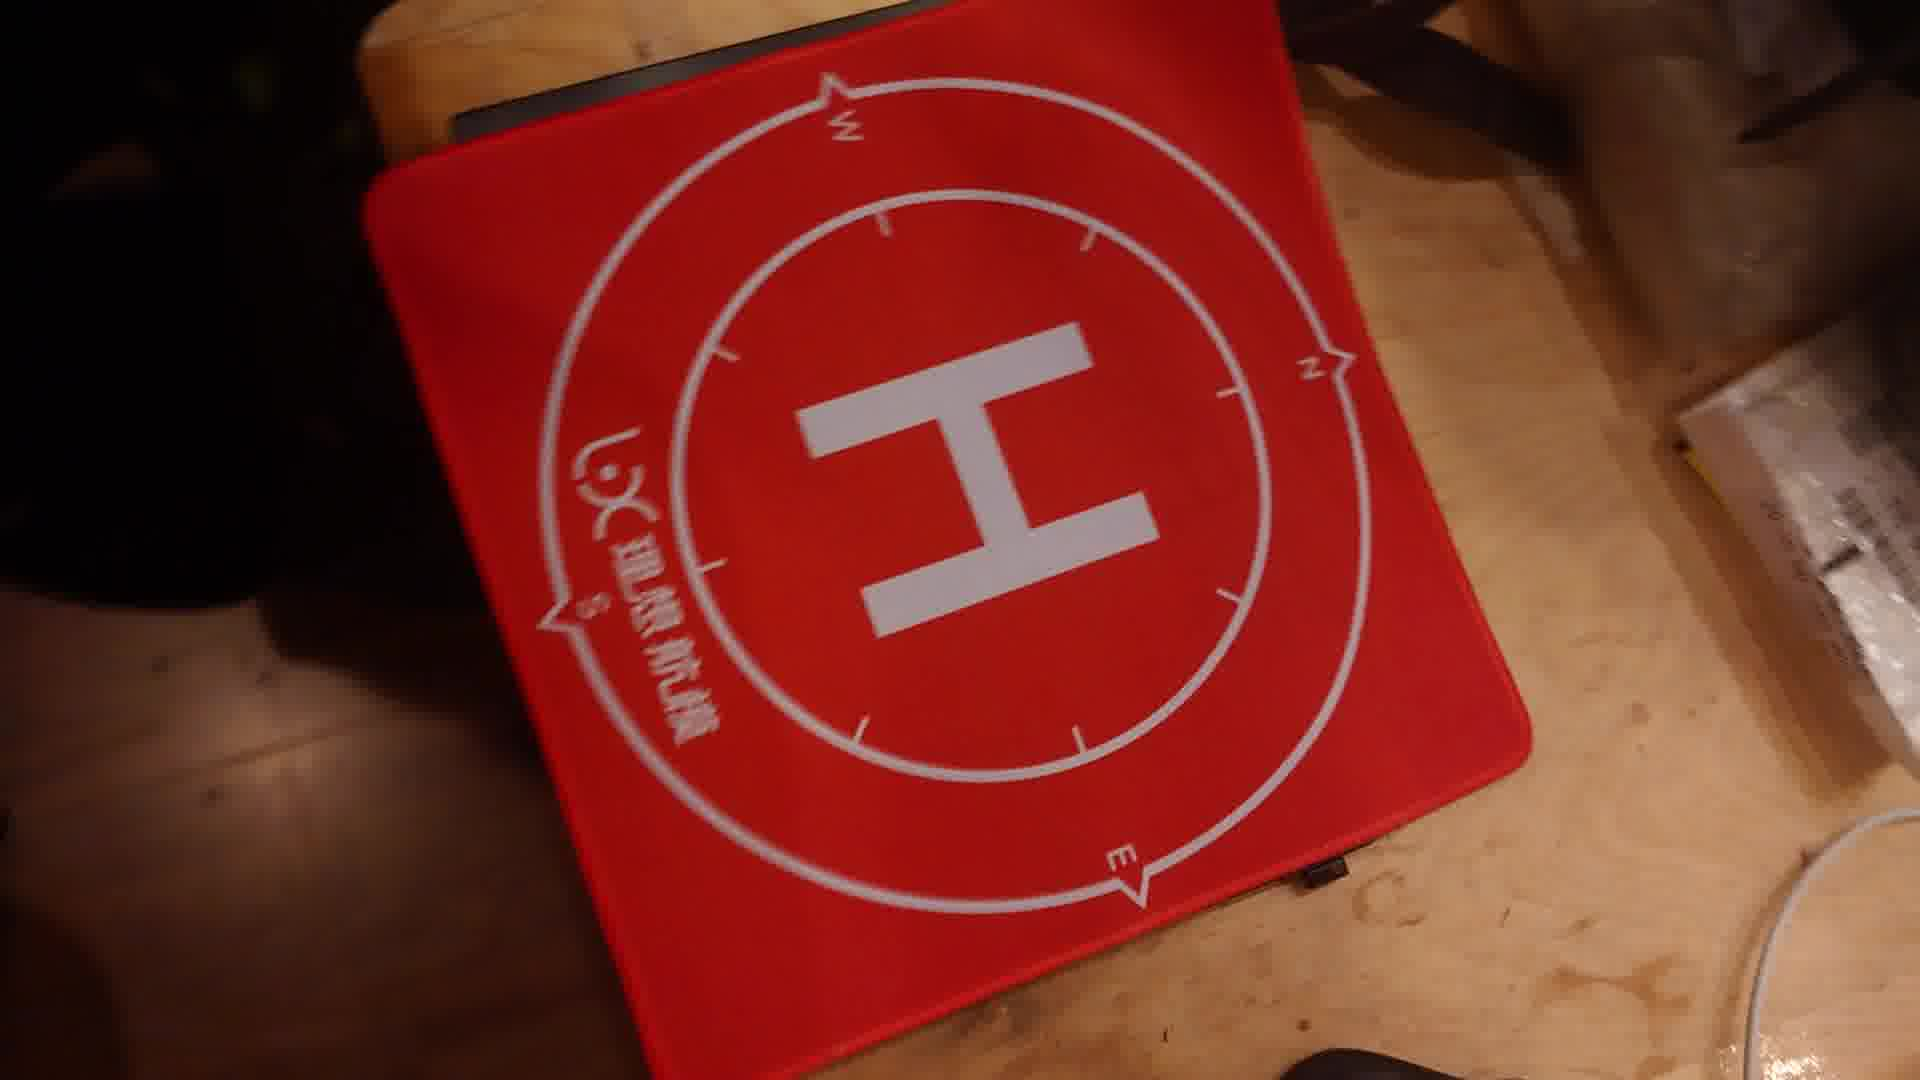H: (791, 318, 1168, 640)
